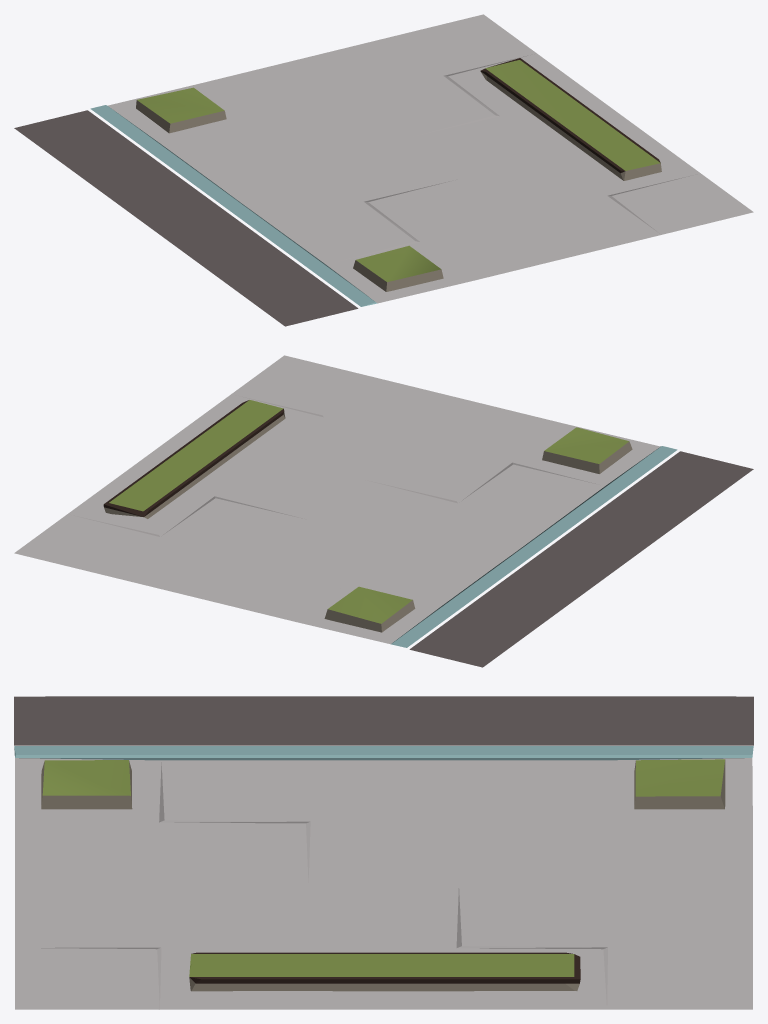
The model's file is QmSLLenWDyuajpEar3dbfLMFvXYmiQTtKQLwVztFc1Kwvi_lod2.fbx.
3 views of the same model, one above another, from view 1: azimuth 30°, elevation 25°; view 2: azimuth 150°, elevation 25°; view 3: azimuth 270°, elevation 25° (orthographic). The views are drawn at different scales.
Visible parts, largest first — view 1: Entity_512; view 2: Entity_512; view 3: Entity_512.
Boxes of the visible parts, left/top/right/bottom form: Entity_512: left=14, top=14, right=753, bottom=326; Entity_512: left=14, top=355, right=753, bottom=667; Entity_512: left=14, top=696, right=753, bottom=1009.
Size of the model in its own units: 15907 by 341 by 15921.
1 material, 1 textured.
